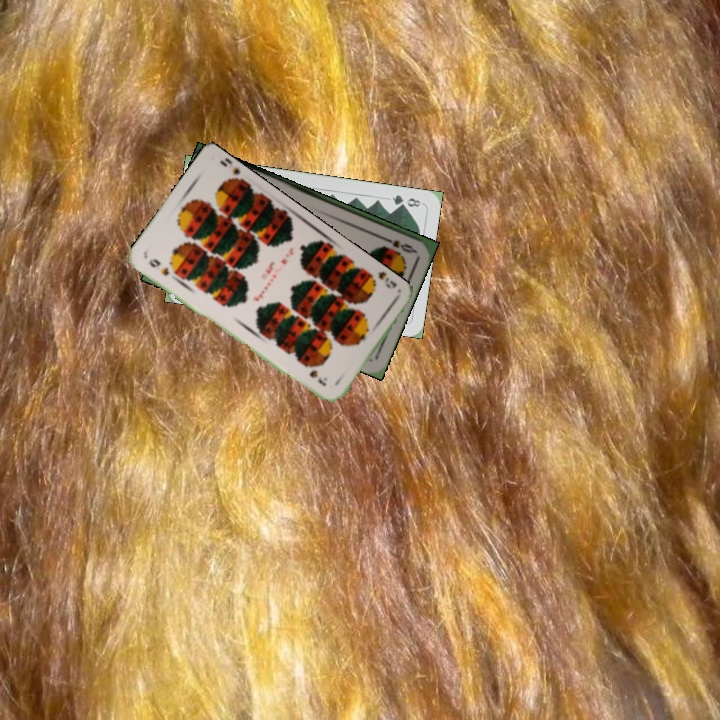G8: (388, 191, 423, 210)
S9: (364, 268, 399, 291), (145, 254, 172, 279)
SO: (379, 233, 418, 256)
